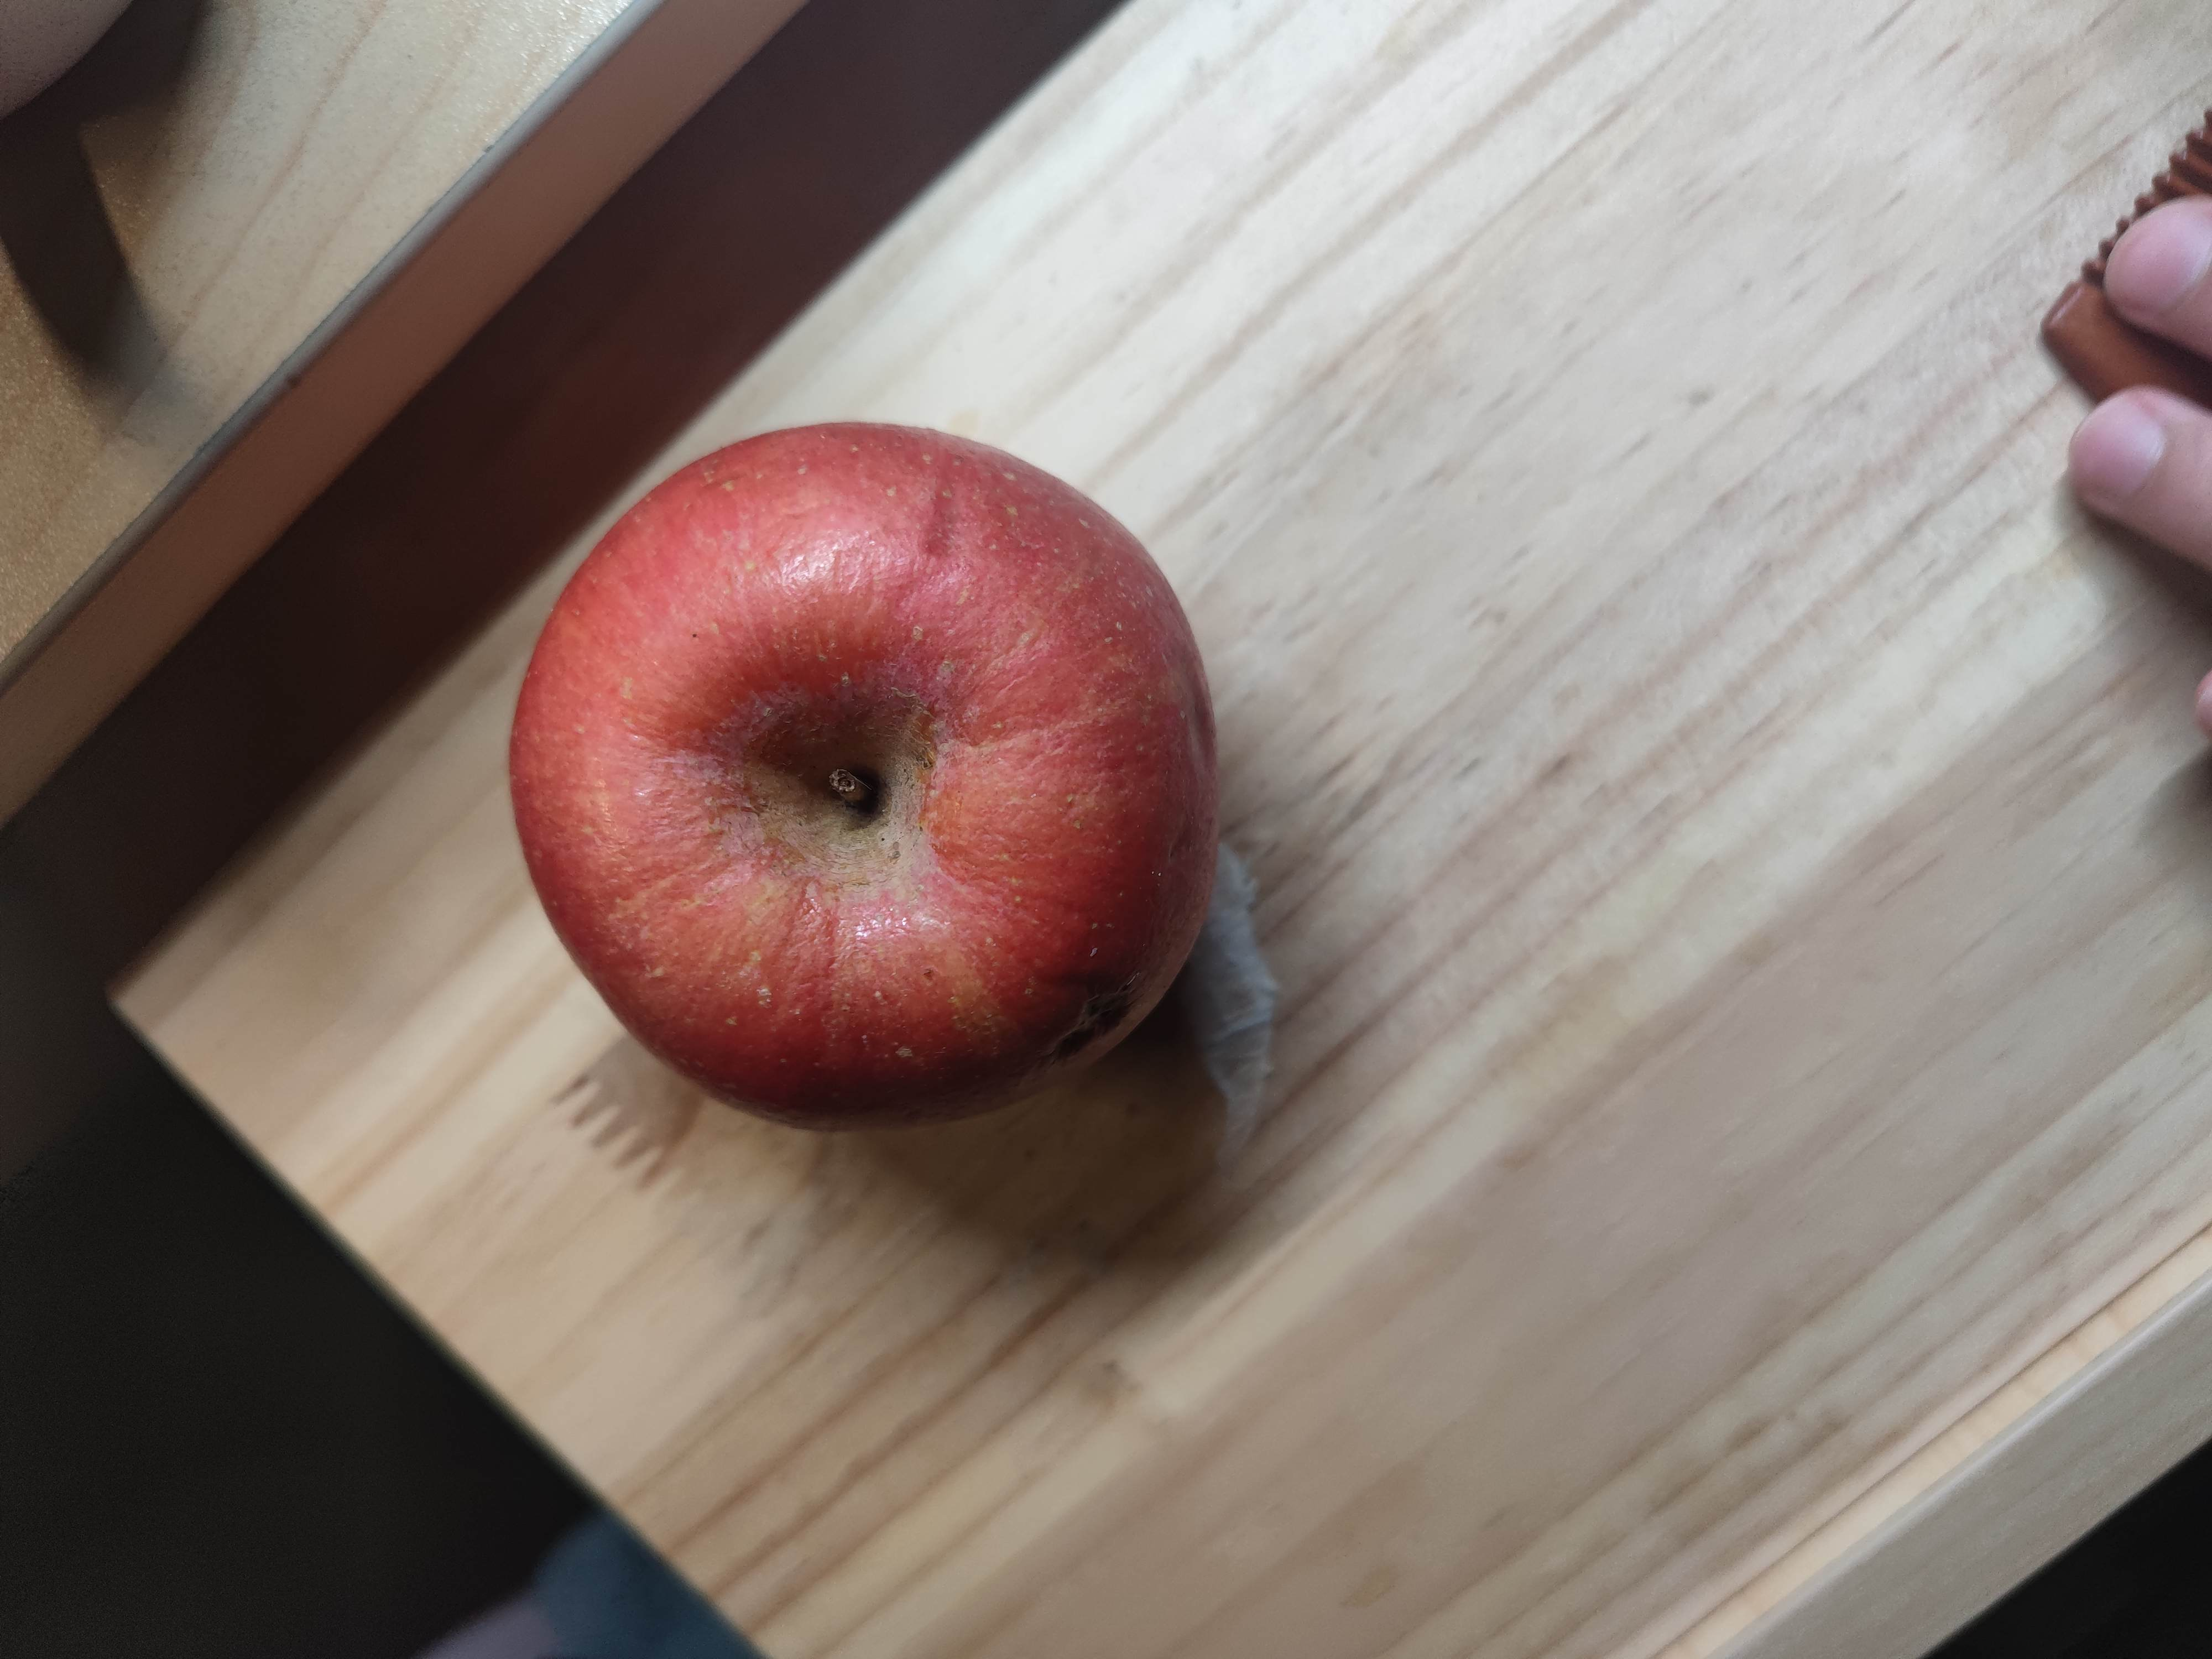apple: (514, 418, 1245, 1136)
